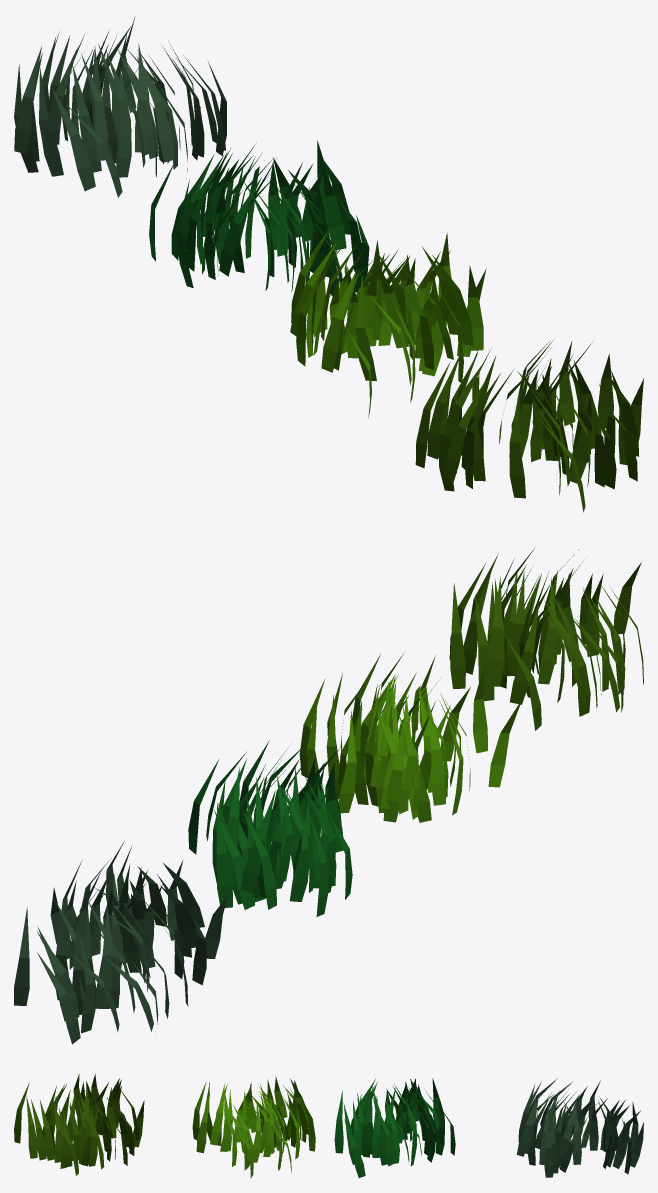
Rendered from grass_model.fbx.
3 views of the same model, one above another, from view 1: azimuth 30°, elevation 25°; view 2: azimuth 150°, elevation 25°; view 3: azimuth 270°, elevation 25° (orthographic). The views are drawn at different scales.
Parts seen in each view (by area): view 1: grass_seed_4, grass_seed_3, grass1, grass_seed_1; view 2: grass_seed_3, grass_seed_4, grass1, grass_seed_1; view 3: grass_seed_4, grass_seed_3, grass_seed_1, grass1.
Boxes of the visible parts, bbox=[...] form: grass_seed_4: bbox=[415, 340, 643, 512]; grass_seed_3: bbox=[14, 16, 226, 197]; grass1: bbox=[290, 228, 486, 417]; grass_seed_1: bbox=[149, 140, 369, 295]; grass_seed_3: bbox=[14, 841, 227, 1044]; grass_seed_4: bbox=[449, 548, 643, 730]; grass1: bbox=[299, 652, 522, 822]; grass_seed_1: bbox=[188, 740, 352, 916]; grass_seed_4: bbox=[14, 1073, 144, 1175]; grass_seed_3: bbox=[516, 1078, 643, 1177]; grass_seed_1: bbox=[334, 1078, 455, 1177]; grass1: bbox=[192, 1076, 315, 1178].
Size of the model in its own units: 315 by 232 by 1595.
